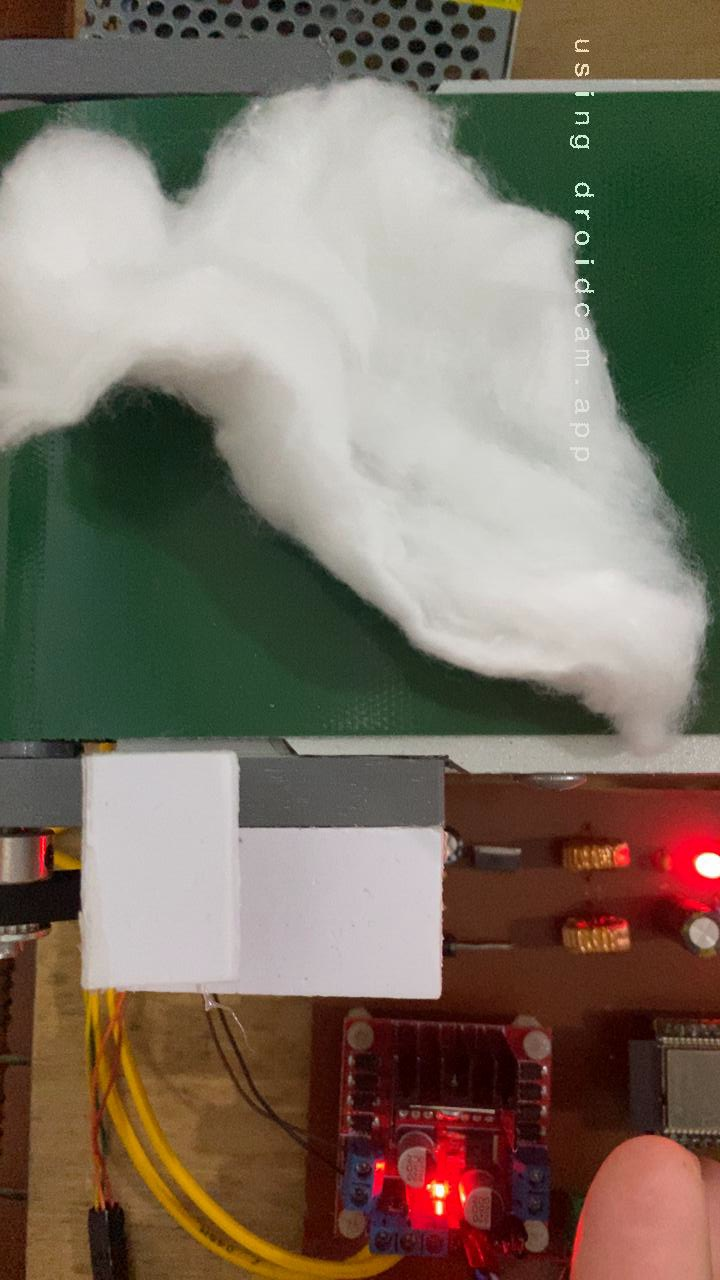cotton: (0, 93, 720, 735)
